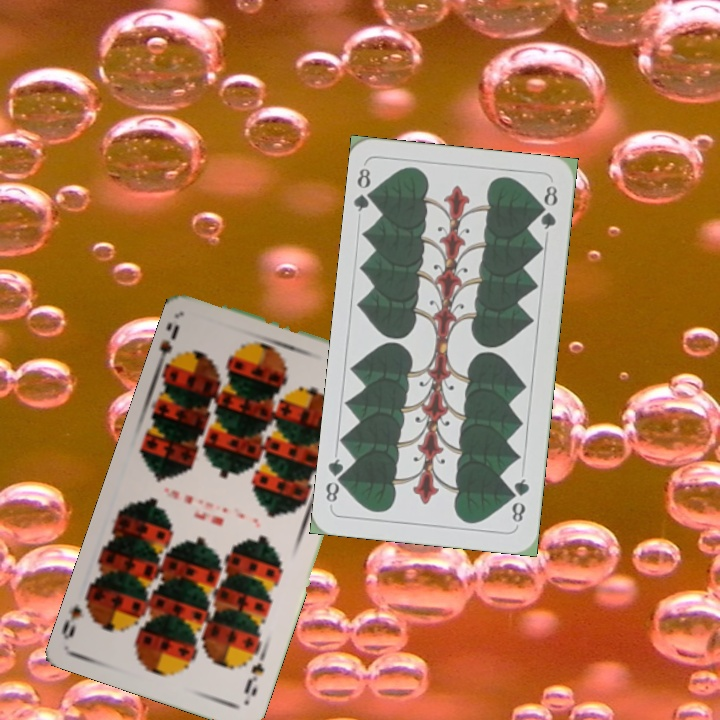G8: (350, 164, 380, 214), (507, 474, 532, 528)
S9: (240, 646, 269, 700), (154, 320, 182, 370)
